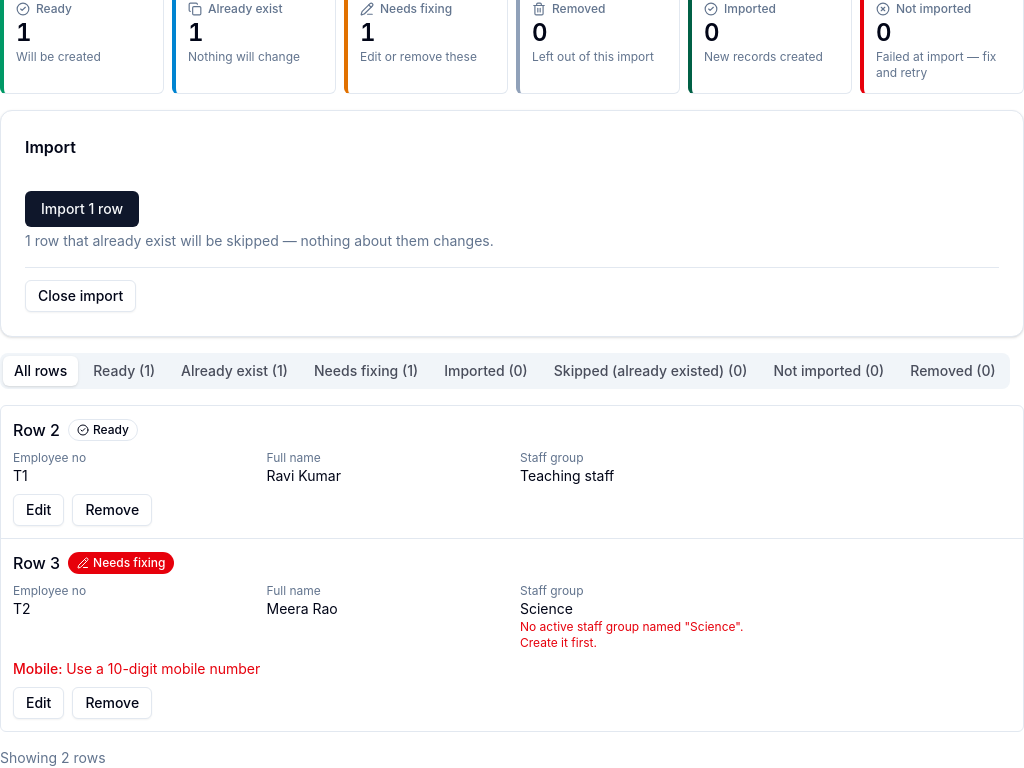
Test: import job page › tiles show text + numbers; errors sit next to their field; remove says no record is deleted
(page scrolled)
Expected: the list item with test id "tile-Already exist" shows "1", x1=188 y1=18 x2=204 y2=47
Expected: the list item with test id "tile-Needs fixing" shows "1", x1=360 y1=18 x2=376 y2=47
Click the button "Remove" below "T2".
click(112, 703)  # box x1=72 y1=687 x2=152 y2=719
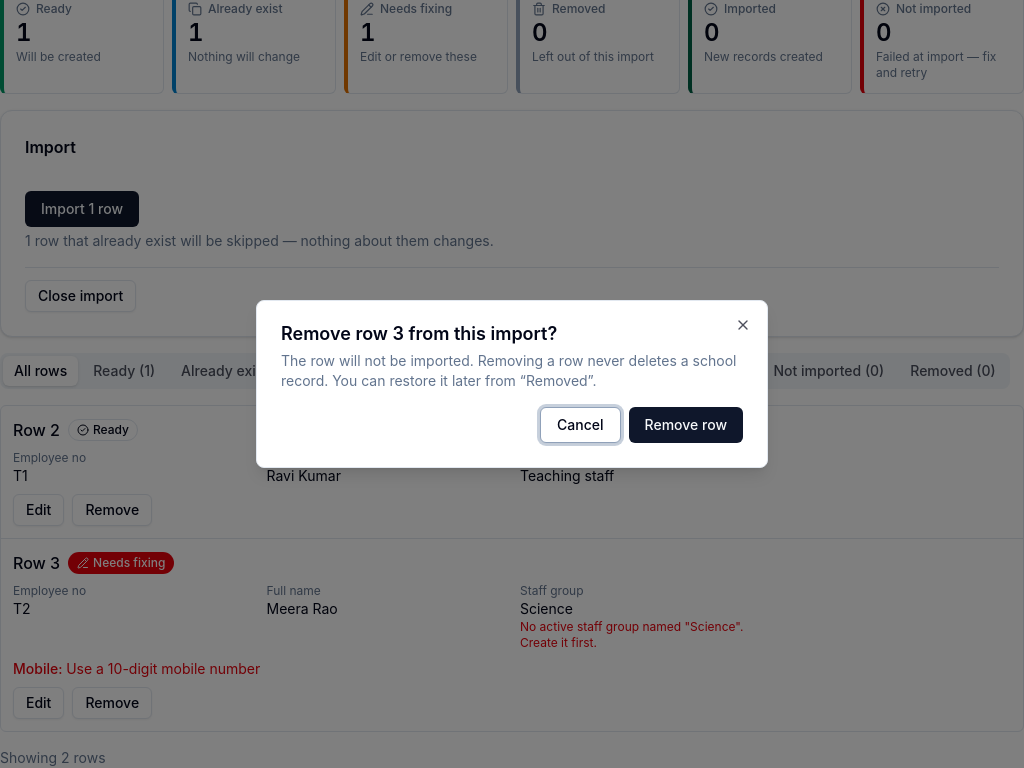
Expected: the dialog shows "Removing a row never deletes a school record", x1=281 y1=352 x2=736 y2=389
